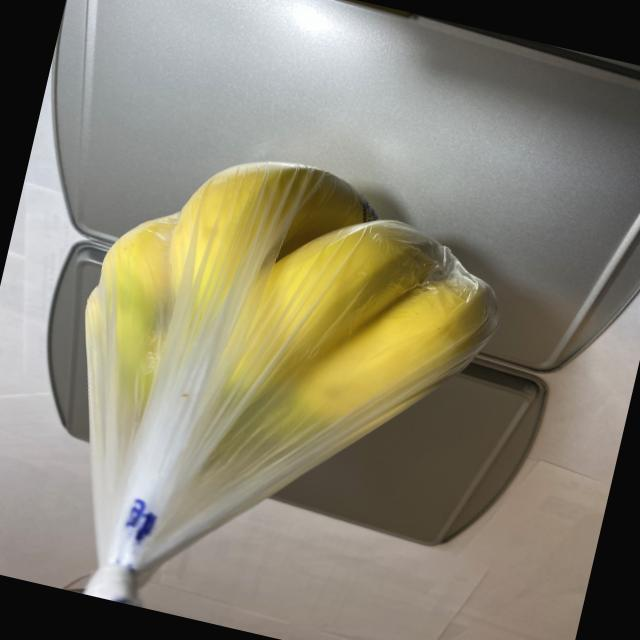banana: (57, 120, 530, 520)
